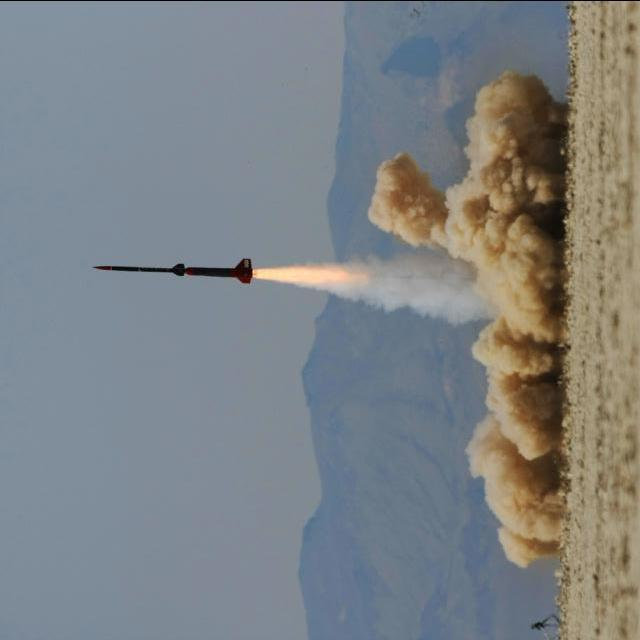missile: (92, 255, 251, 283)
